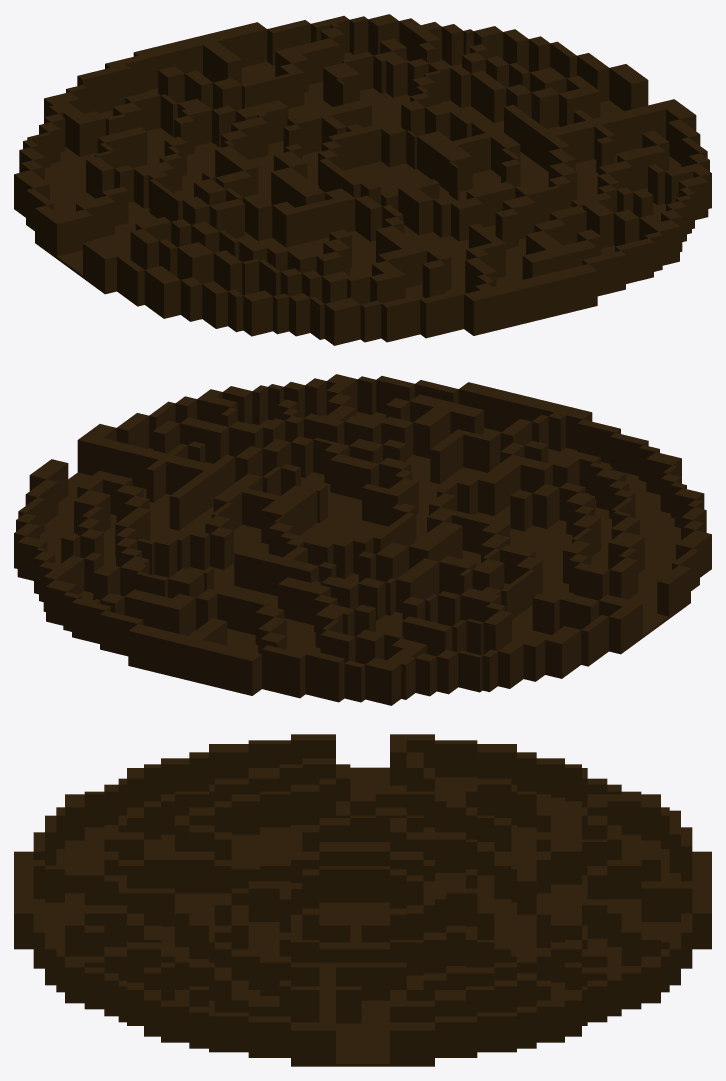
File: collision-world.glb
The picture shows the model from 3 angles, top to bottom: view 1: azimuth 30°, elevation 25°; view 2: azimuth 150°, elevation 25°; view 3: azimuth 270°, elevation 25°; orthographic projection. The views are drawn at different scales.
Parts seen in each view (by area): view 1: Mesh_0; view 2: Mesh_0; view 3: Mesh_0.
Boxes of the visible parts, bbox=[...] form: Mesh_0: bbox=[14, 14, 711, 345]; Mesh_0: bbox=[14, 374, 711, 705]; Mesh_0: bbox=[14, 734, 711, 1066].
Size of the model in its own units: 24.8 by 1.6 by 24.7.
Materials: 1 (1 with a texture image).
